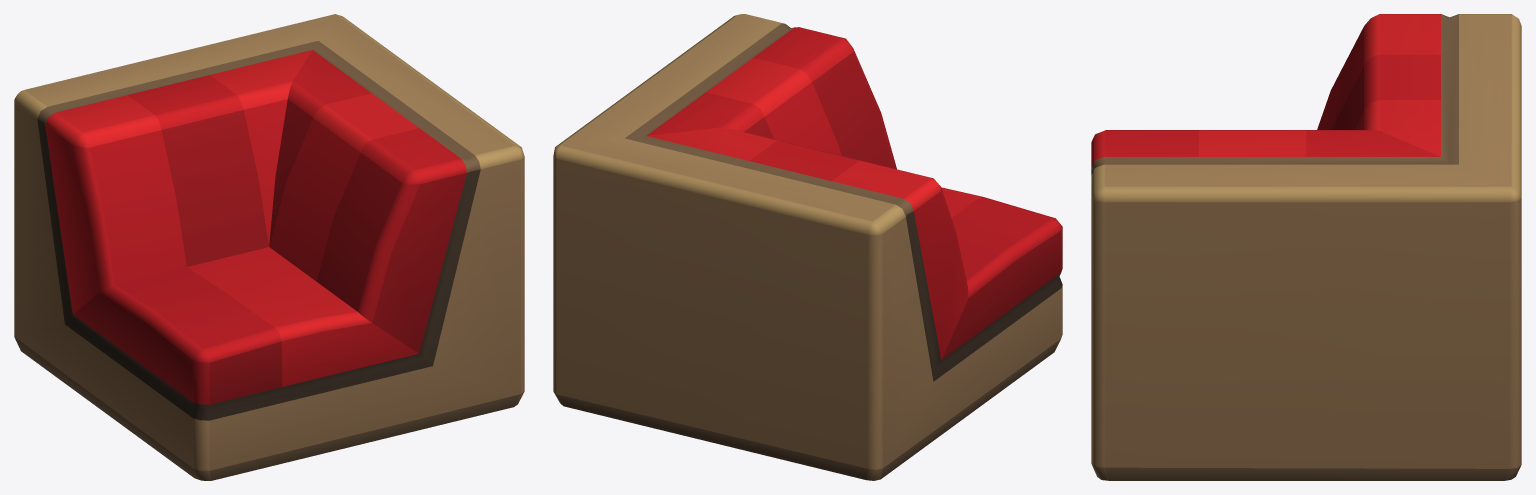
File: seating_outdoor1_1_corner_conc_LOD_setup.fbx
3 renders of one model, left to right at view 1: azimuth 30°, elevation 25°; view 2: azimuth 150°, elevation 25°; view 3: azimuth 270°, elevation 25°, orthographic. The views are drawn at different scales.
Visible parts, largest first — view 1: seating_outdoor1_1_corner_conc_LOD0; view 2: seating_outdoor1_1_corner_conc_LOD0; view 3: seating_outdoor1_1_corner_conc_LOD0.
Boxes of the visible parts, x1,y1,x2,y2 form: seating_outdoor1_1_corner_conc_LOD0: [14, 14, 524, 480]; seating_outdoor1_1_corner_conc_LOD0: [553, 14, 1062, 480]; seating_outdoor1_1_corner_conc_LOD0: [1091, 14, 1521, 480].
Size of what is drawn, in the model's own units: 100 by 75 by 100.
